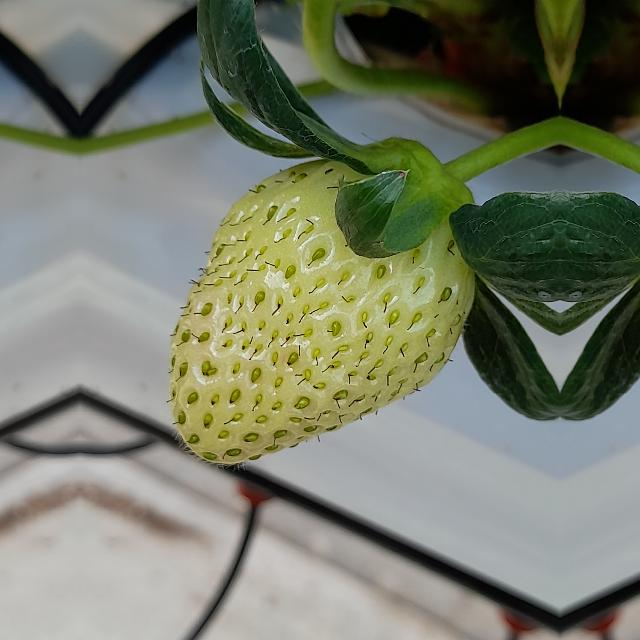Health_25: (167, 158, 476, 468)
